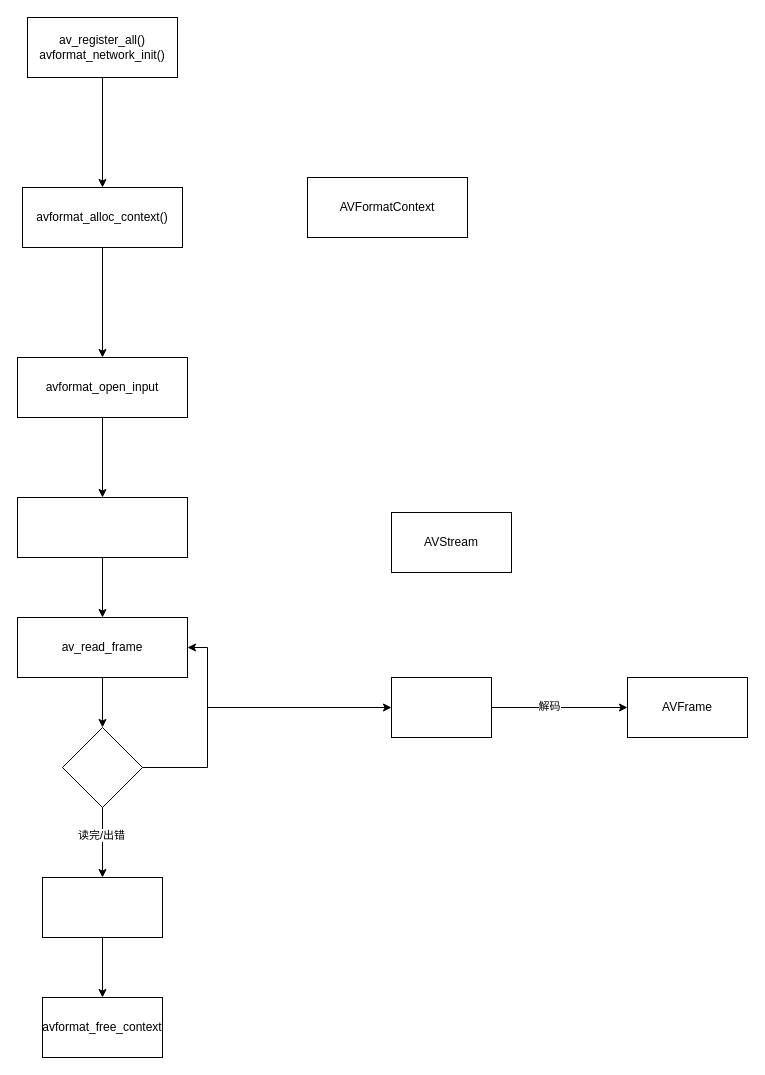
The diagram is 765 pixels wide and 1075 high, and some of its shapes have lost their labels. Here are the shapes that lost their labels. From the top down, the box of each, then its label:
(16, 496, 188, 558): avformat_find_stream_info
(390, 676, 492, 738): AVPacket
(62, 726, 142, 808): 读取成功
(42, 876, 162, 938): avformat_close_input
